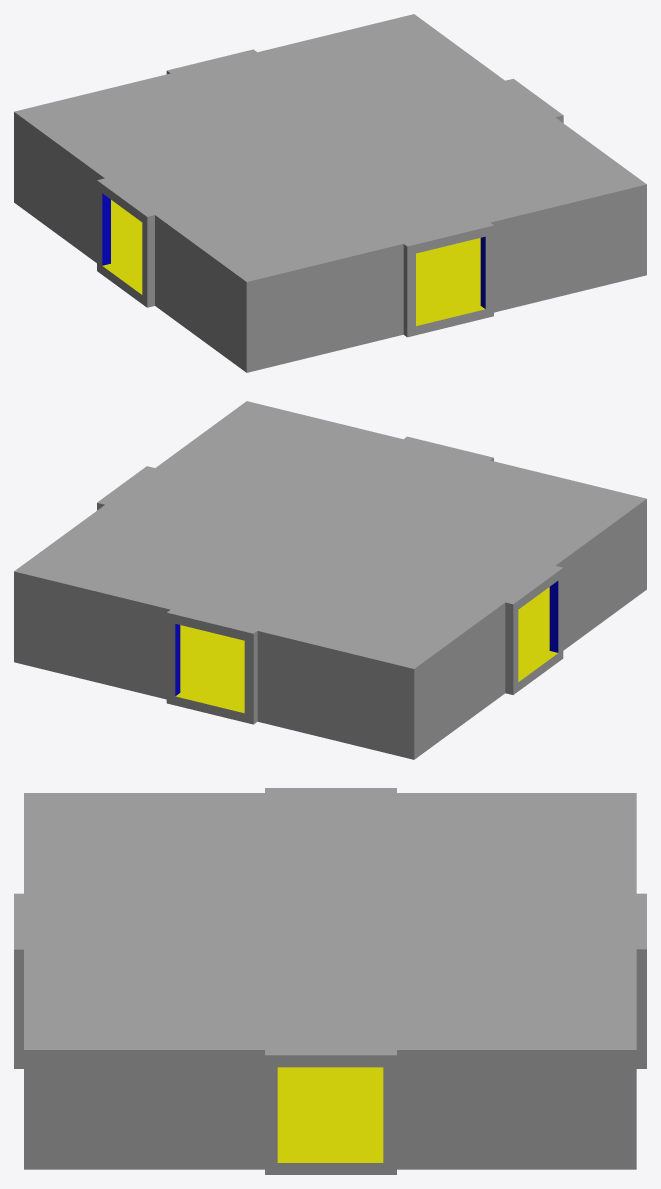
File: Massive Area.fbx
The picture shows the model from 3 angles, top to bottom: view 1: azimuth 30°, elevation 25°; view 2: azimuth 150°, elevation 25°; view 3: azimuth 270°, elevation 25°; orthographic projection. The views are drawn at different scales.
Parts seen in each view (by area): view 1: Massive_area; view 2: Massive_area; view 3: Massive_area.
Boxes of the visible parts, x1,y1,x2,y2 form: Massive_area: (14,14,646,372); Massive_area: (14,401,646,759); Massive_area: (14,788,646,1174).
Size of the model in its own units: 0.24 by 0.05 by 0.2401.
